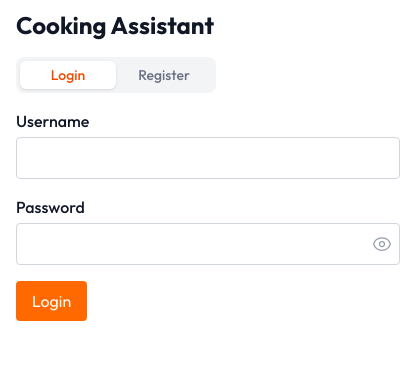
Test: LoginPage › surfaces the server error message on a failed login
Type "alice" into the field labelled "Username". click: x=208, y=158
box: [16,137,400,179]
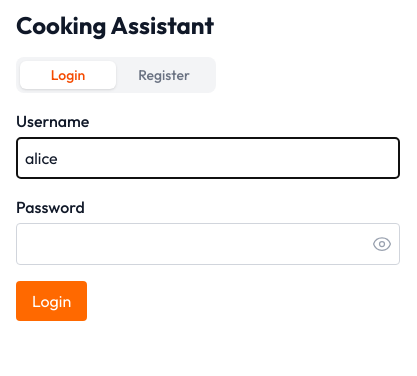
Type "wrong" into the password field labelled "Password". click: x=208, y=244
box: [16,223,400,265]
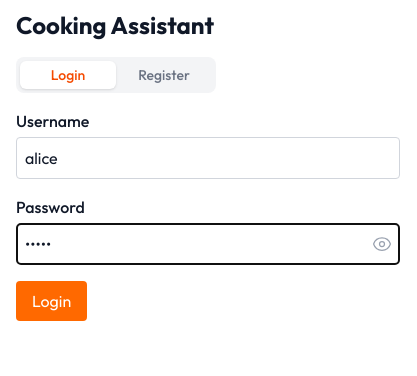
Press Enter
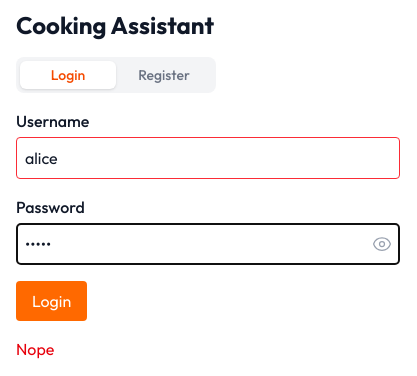
expect the text "Nope" is shown: met, box [16,339,54,359]
